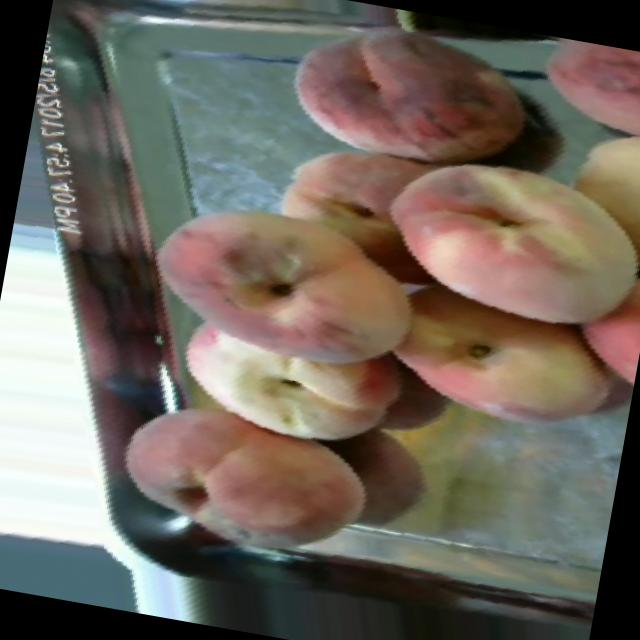Fruit: (116, 152, 454, 418), (351, 103, 640, 364), (90, 359, 400, 572), (262, 0, 570, 187), (357, 257, 640, 455), (508, 31, 640, 164)
